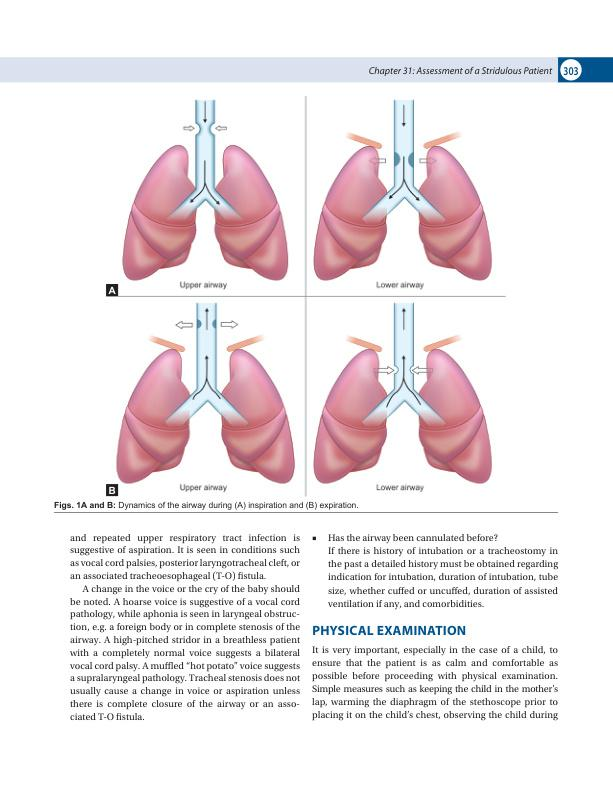caption: (53, 501, 359, 510), (107, 285, 117, 295), (107, 485, 117, 495)
header: (368, 66, 554, 77)
image: (104, 94, 508, 296), (104, 297, 507, 496)
section-heading: (312, 624, 467, 637)
text: (69, 532, 301, 722), (311, 644, 560, 722), (327, 532, 559, 610)
